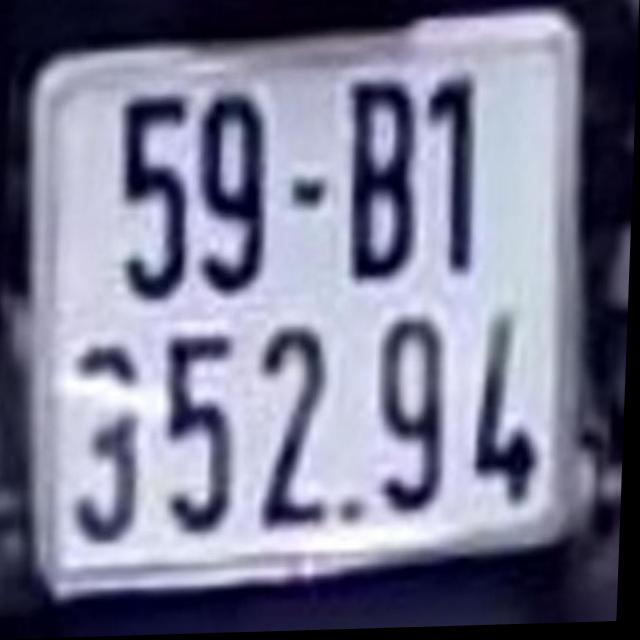1: (423, 65, 481, 275)
2: (259, 316, 336, 525)
3: (70, 342, 147, 547)
4: (471, 309, 548, 510)
5: (113, 94, 198, 304), (163, 326, 239, 534)
9: (375, 317, 455, 513), (200, 95, 271, 296)
B: (349, 72, 421, 280)
